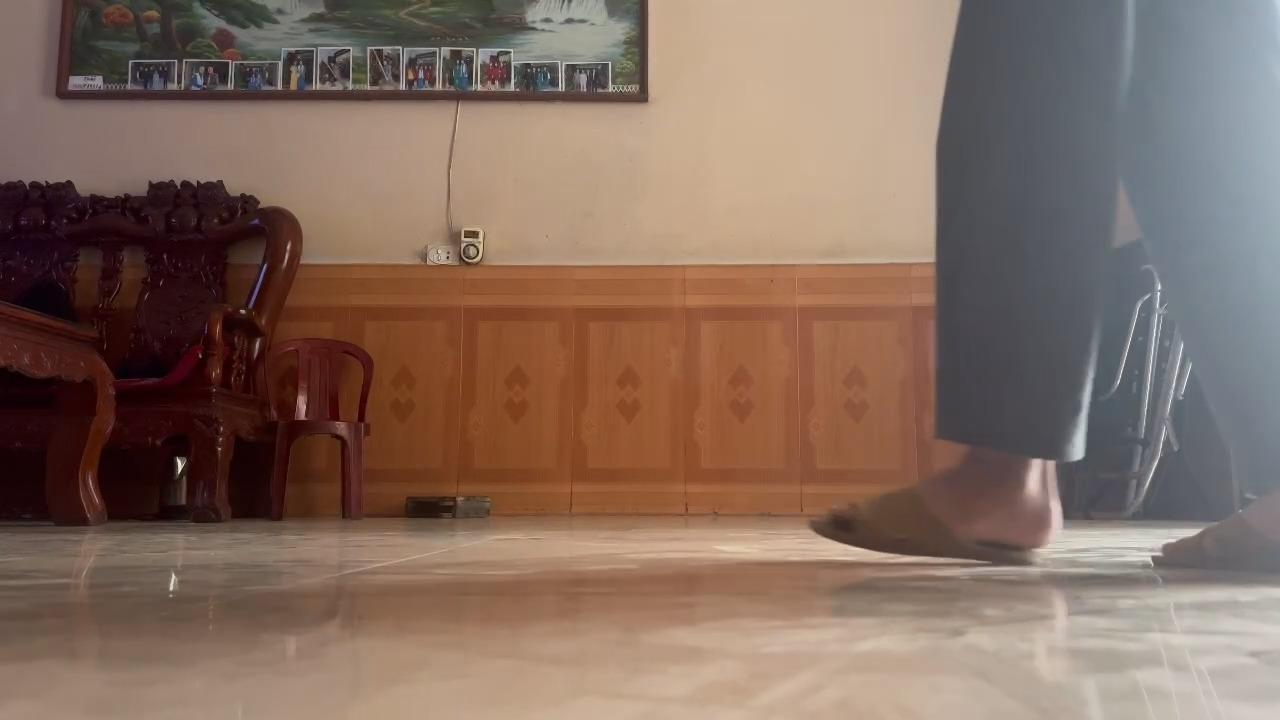no-boot: (803, 467, 1067, 574), (1142, 500, 1280, 591)
